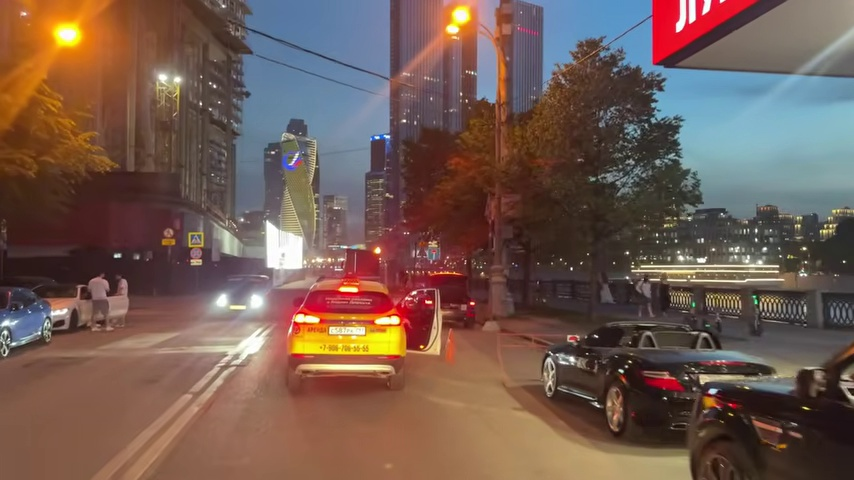acesa: (45, 16, 88, 57), (444, 4, 477, 39)
